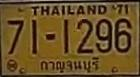1: (63, 19, 68, 53), (32, 20, 36, 54)
2: (76, 18, 92, 52)
6: (114, 17, 131, 52)
7: (7, 19, 23, 54)
9: (95, 18, 111, 52)
KRI: (37, 56, 102, 74)
